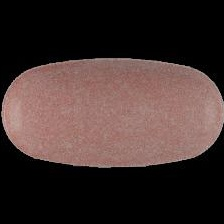0597-0044: (0, 0, 224, 224)
